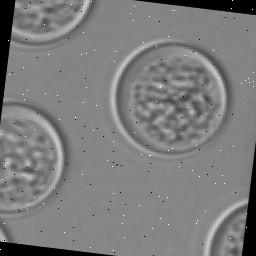picoshell: (108, 37, 229, 159), (0, 99, 66, 215), (9, 0, 91, 48), (203, 199, 246, 256), (0, 221, 11, 241)
